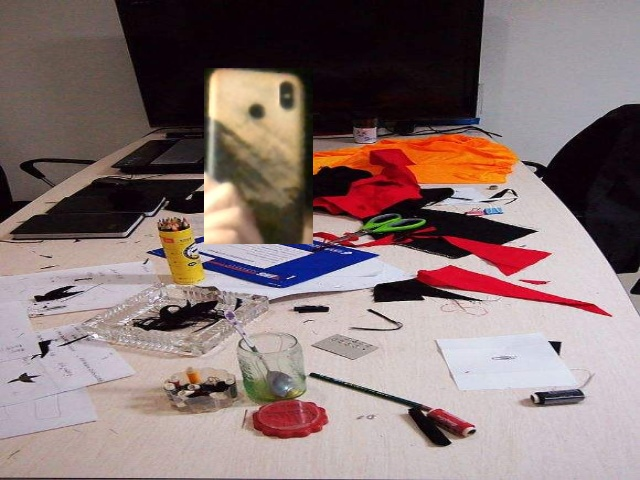UsingPhone: (204, 68, 313, 244)
